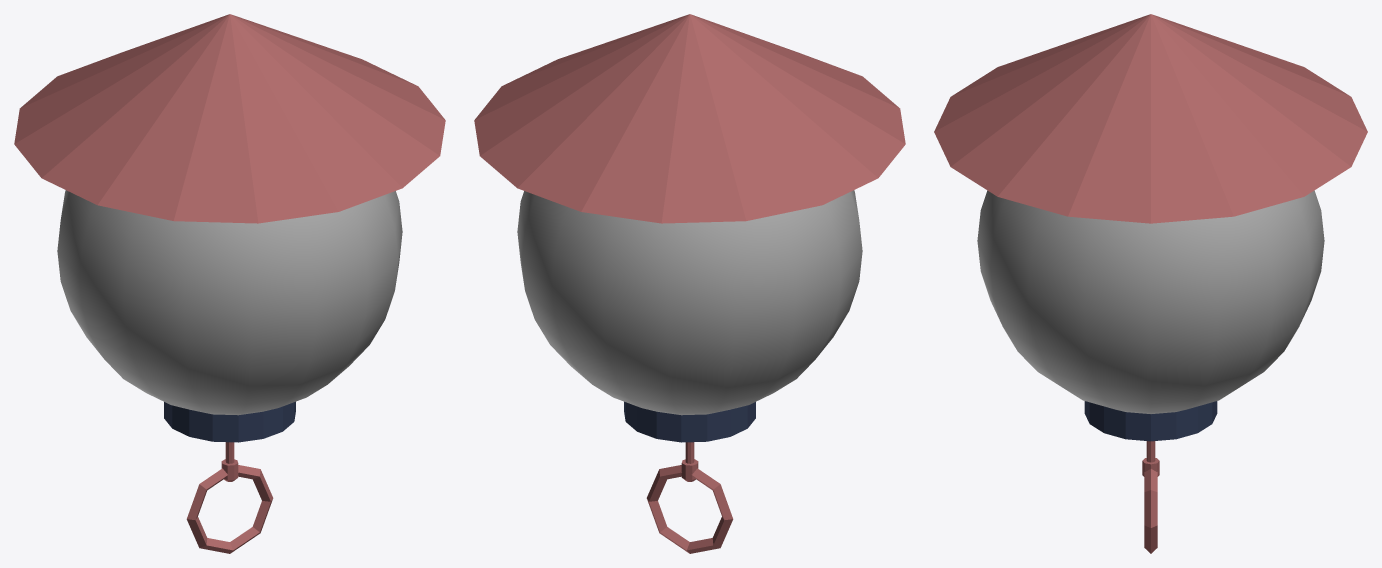
Rendered from Lantern01.fbx.
3 renders of one model, left to right at view 1: azimuth 30°, elevation 25°; view 2: azimuth 150°, elevation 25°; view 3: azimuth 270°, elevation 25°, orthographic.
Parts seen in each view (by area): view 1: Lantern01_GEO; view 2: Lantern01_GEO; view 3: Lantern01_GEO.
Part boxes in pixels (box(x1,y1,x2,y2)): Lantern01_GEO: box(14, 14, 445, 553); Lantern01_GEO: box(474, 14, 905, 553); Lantern01_GEO: box(934, 14, 1367, 553).
Size of the model in its own units: 200 by 274 by 200.
